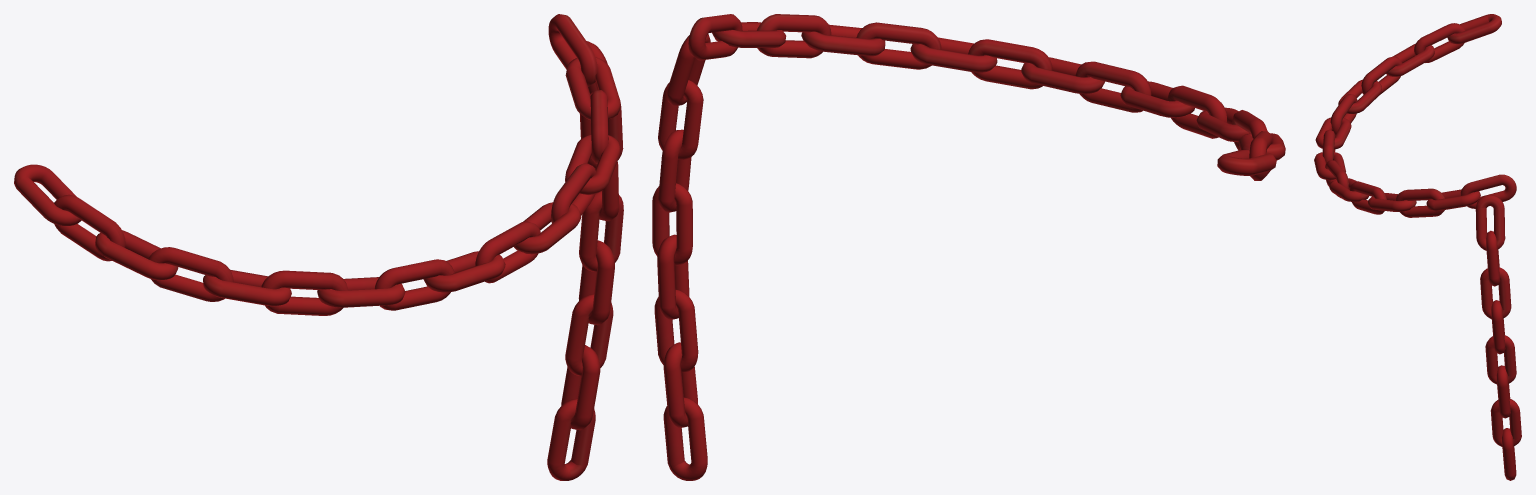
The model's file is SM_Chariot_Chaine.glb.
3 views of the same model, side by side, from view 1: azimuth 30°, elevation 25°; view 2: azimuth 150°, elevation 25°; view 3: azimuth 270°, elevation 25° (orthographic). The views are drawn at different scales.
Parts seen in each view (by area): view 1: Chariot_Chaine; view 2: Chariot_Chaine; view 3: Chariot_Chaine.
Part boxes in pixels (x1,y1,x2,y2): Chariot_Chaine: (14, 14, 623, 480); Chariot_Chaine: (652, 14, 1285, 480); Chariot_Chaine: (1314, 14, 1521, 480).
Bounding box in the file's own units: 0.2378 × 0.1748 × 0.1093.
Materials: 1 (1 with a texture image).
